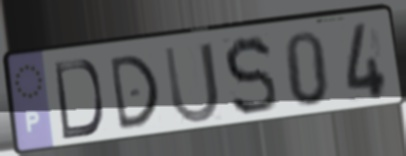0: (281, 29, 333, 109)
4: (343, 18, 390, 103)
D: (52, 57, 106, 142), (107, 52, 162, 134)
S: (221, 34, 280, 120)
U: (161, 39, 223, 127)
